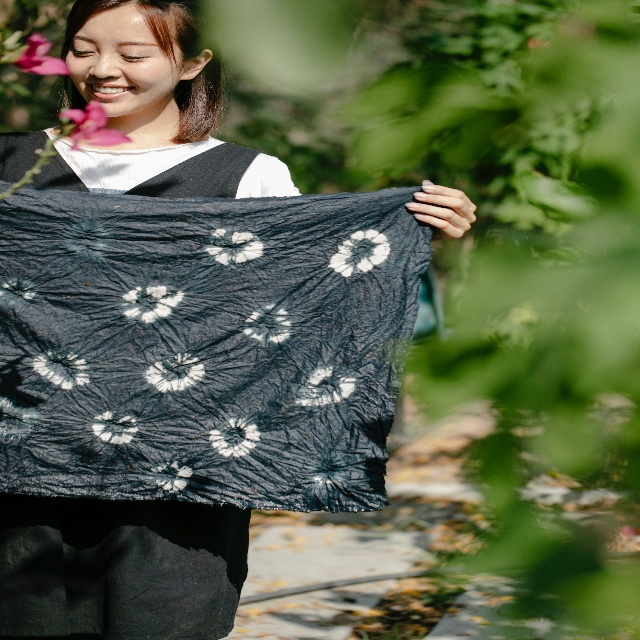Sin_guantes: (405, 177, 478, 245)
